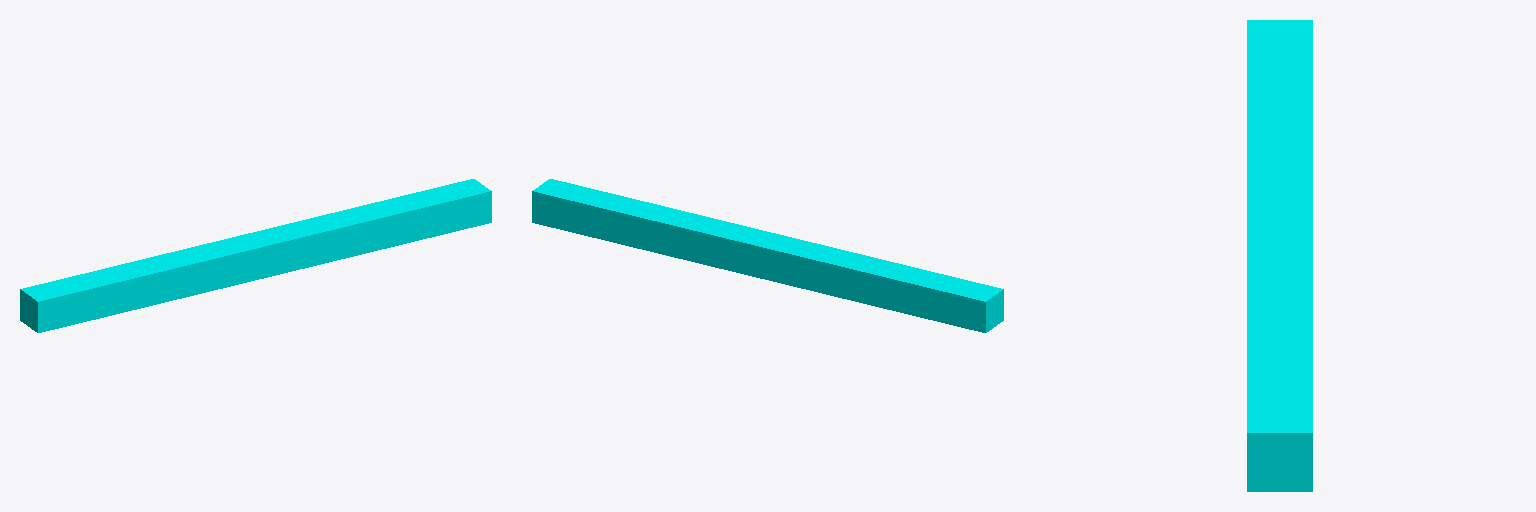
robot.urdf — twoLinks:
<robot name="twoLinks">
   <link name="base_link" />
   <joint name="base_fixed_joint" type="fixed">
        <origin xyz="0 0 0" rpy="0 -0 0" />
        <axis xyz="0 0 0" />
        <parent link="base_link" />
        <child link="link1" />
    </joint>
    <link name="link1">
        <inertial>
            <mass value="1" />
            <inertia ixx="0.01" ixy="0.0" ixz="0.0" iyy="0.01" iyz="0.0" izz="0.01" />
            <origin xyz="0.25 0 0" rpy="0 0 0" />
        </inertial>
        <visual>
            <origin xyz="0.25 0 0.0" rpy="0 0 0" />
            <geometry>
                 <box size="0.5 0.1 0.1" />
            </geometry>
            <material name="Cyan">
                <color rgba="0 1.0 1.0 1.0"/>
            </material>
        </visual>
        <collision>
            <origin xyz="0.25 0 0.0" rpy="0 0 0" />
            <geometry>
                 <box size="0.5 0.1 0.1" />
            </geometry>
        </collision>
    </link>
    <link name="contact_ft" />
    <joint name="contact_ft_joint" type="fixed">
        <parent link="link2"/>
        <child link="contact_ft"/>
        <origin xyz="0 0 0.1" rpy="0 0 0"/>
    </joint>
    <joint name="joint_1_2" type="revolute">
        <origin xyz="0.5 0 0" rpy="0 -0 0" />
        <axis xyz="0 0 1" />
        <parent link="link1" />
        <child link="link2" />
        <limit effort="15" lower="-2.96705972839" upper="2.96705972839" velocity="1.91986217719"/>
    </joint>
    <link name="link2">
        <inertial>
            <mass value="1" />
            <inertia ixx="0.01" ixy="0.0" ixz="0.0" iyy="0.01" iyz="0.0" izz="0.01" />
            <origin xyz="0.25 0 0" rpy="0 -0 0" />
        </inertial>
        <visual>
            <origin xyz="0.25 0 0" rpy="0 0 0" />
            <geometry>
                 <box size="0.5 0.1 0.1" />
            </geometry>
            <material name="Cyan">
                <color rgba="0 1.0 1.0 1.0"/>
            </material>
        </visual>
        <collision>
            <origin xyz="0.25 0 0" rpy="0 0 0" />
            <geometry>
                 <box size="0.5 0.1 0.1" />
            </geometry>
        </collision>
    </link>
    <joint name="joint_2_3" type="revolute">
        <origin xyz="0.5 0 0" rpy="0 -0 0" />
        <axis xyz="0 1 0.5" />
        <parent link="link2" />
        <child link="link3" />
        <limit effort="15" lower="-2.96705972839" upper="2.96705972839" velocity="1.91986217719"/>
    </joint>
    <link name="link3">
        <inertial>
            <mass value="1" />
            <inertia ixx="0.01" ixy="0.0" ixz="0.0" iyy="0.01" iyz="0.0" izz="0.01" />
            <origin xyz="0.25 0 0" rpy="0 -0 0" />
        </inertial>
        <visual>
            <origin xyz="0.25 0 0" rpy="0 0 0" />
            <geometry>
                 <box size="0.5 0.1 0.1" />
            </geometry>
            <material name="Cyan">
                <color rgba="0 1.0 1.0 1.0"/>
            </material>
        </visual>
        <collision>
            <origin xyz="0.25 0 0" rpy="0 0 0" />
            <geometry>
                 <box size="0.5 0.1 0.1" />
            </geometry>
        </collision>
    </link>
</robot>

--- Render facts (derived) ---
3 views of the same robot in one strip: view 1: azimuth 30°, elevation 25°; view 2: azimuth 150°, elevation 25°; view 3: azimuth 270°, elevation 25° (orthographic).
Robot: twoLinks — 5 links, 4 joints (2 revolute, 2 fixed); root link base_link; default pose: every joint at zero.
Visible links, largest first — view 1: link1, link3, link2; view 2: link1, link3, link2; view 3: link3, link1, link2.
Link boxes in pixels (left/top/right/bottom): link1: left=20, top=252, right=188, bottom=332; link3: left=323, top=179, right=491, bottom=259; link2: left=172, top=215, right=339, bottom=296; link1: left=835, top=252, right=1003, bottom=332; link3: left=532, top=179, right=700, bottom=259; link2: left=684, top=215, right=851, bottom=296; link3: left=1247, top=295, right=1312, bottom=491; link1: left=1247, top=20, right=1312, bottom=157; link2: left=1247, top=158, right=1312, bottom=294.
Bounding box of the posed robot: 1.5 × 0.1 × 0.1 m (x, y, z).
Geometry: primitives only (box / cylinder / sphere), no mesh files.
